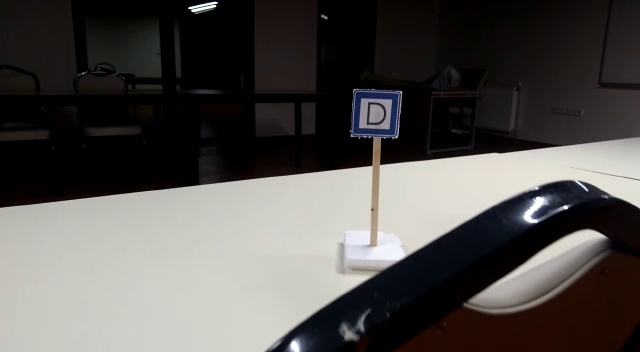durak: (349, 89, 400, 138)
